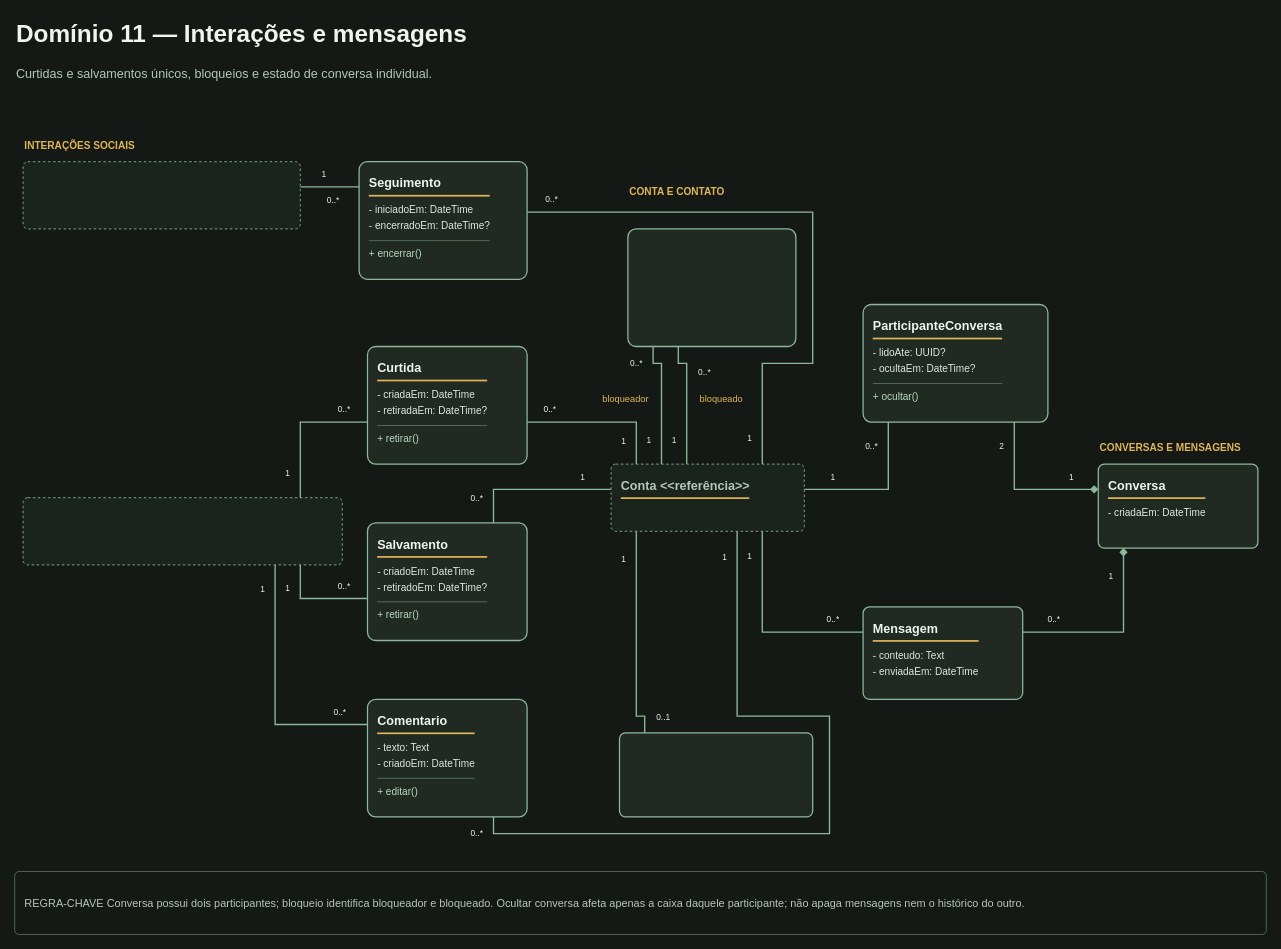
This 1281x949 diagram has some shape labels left out. Here are the shapes that lost their labels. From the top down, the centre of each, then its label:
At point (161, 195): "PerfilProfissional <<referência>>".
At point (711, 287): "Bloqueio - iniciadoEm: DateTime - encerradoEm: DateTime? + desbloquear()".
At point (182, 531): "Recurso <<abstract>> <<referência>>".
At point (715, 774): "PreferenciaContato - aceitaConsumidores: Boolean".
